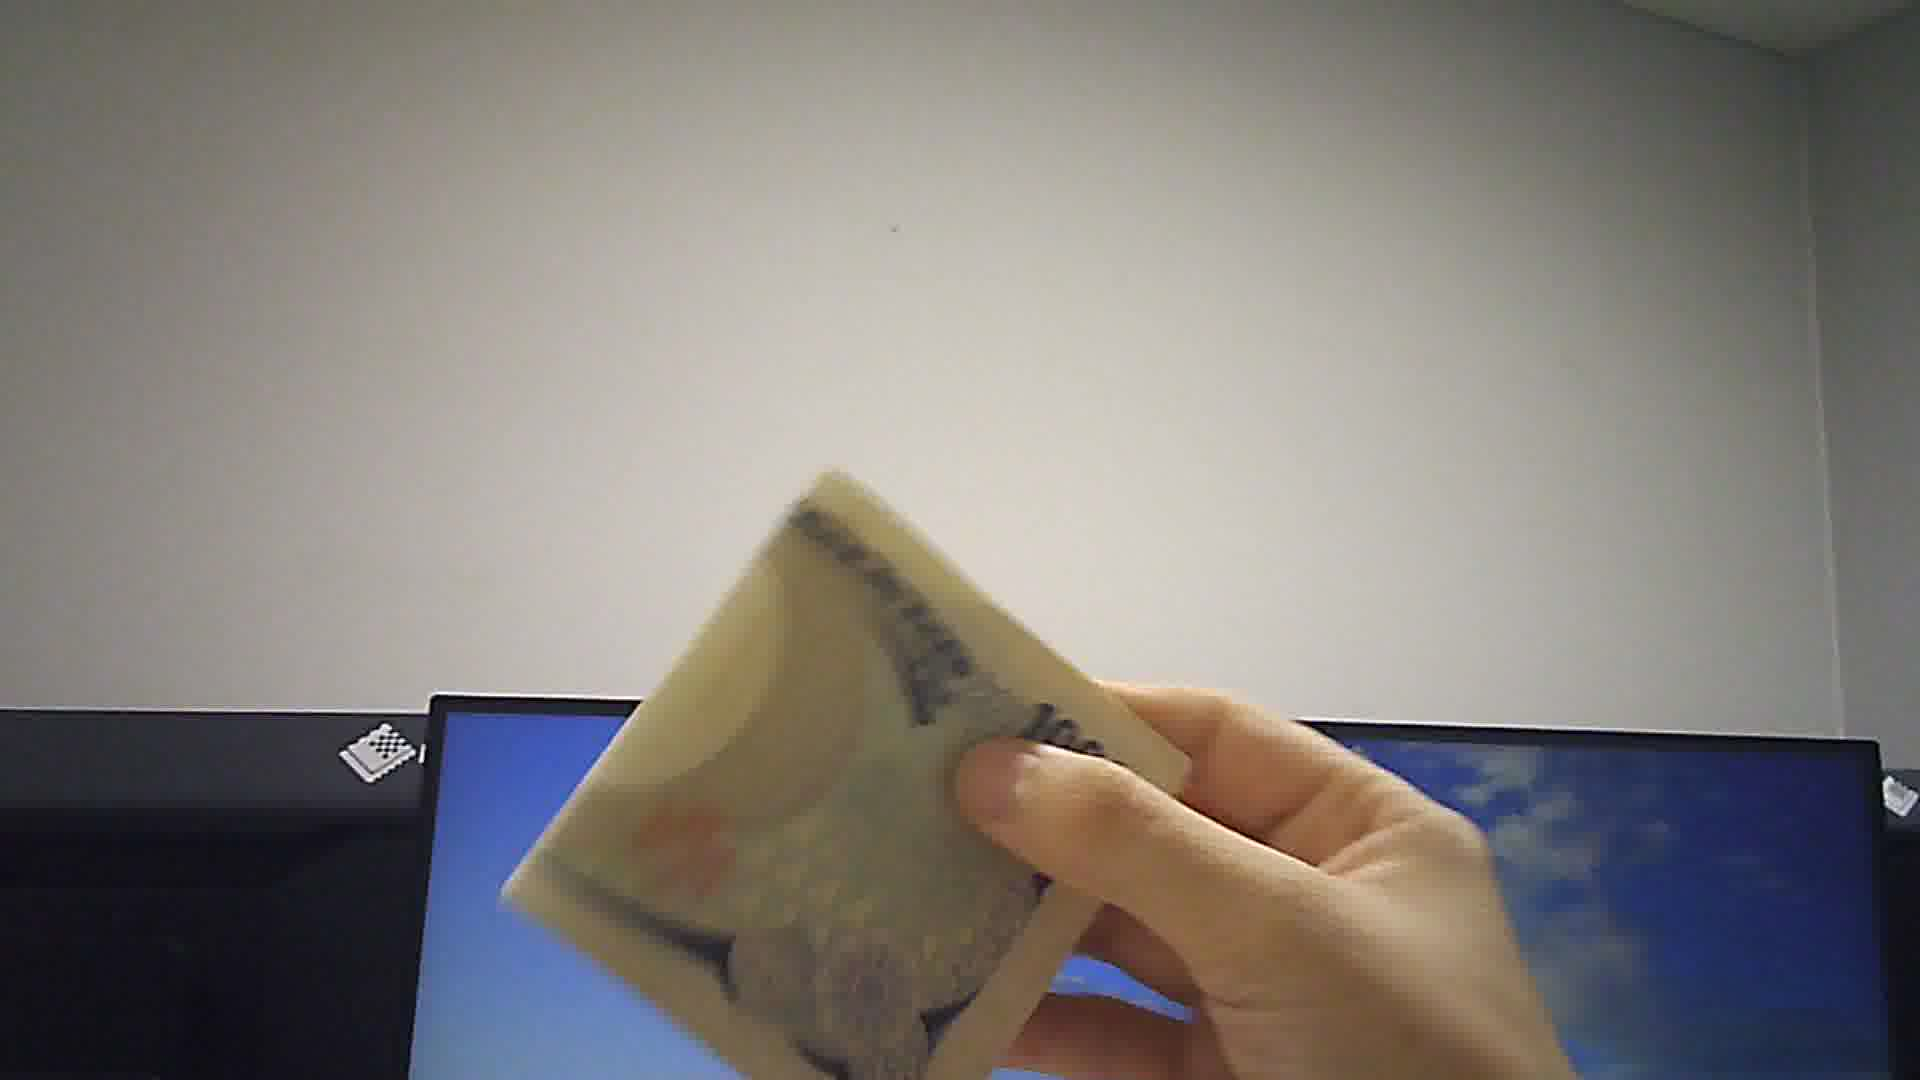1,000 Yen: (516, 472, 1195, 1079)
